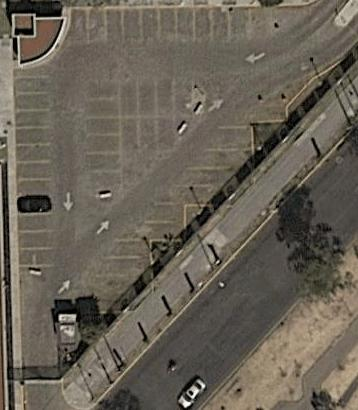parkingspot: (63, 124, 256, 314), (11, 73, 57, 269), (69, 4, 276, 44), (84, 78, 124, 189), (117, 76, 195, 118), (119, 115, 178, 155), (248, 103, 288, 124)
